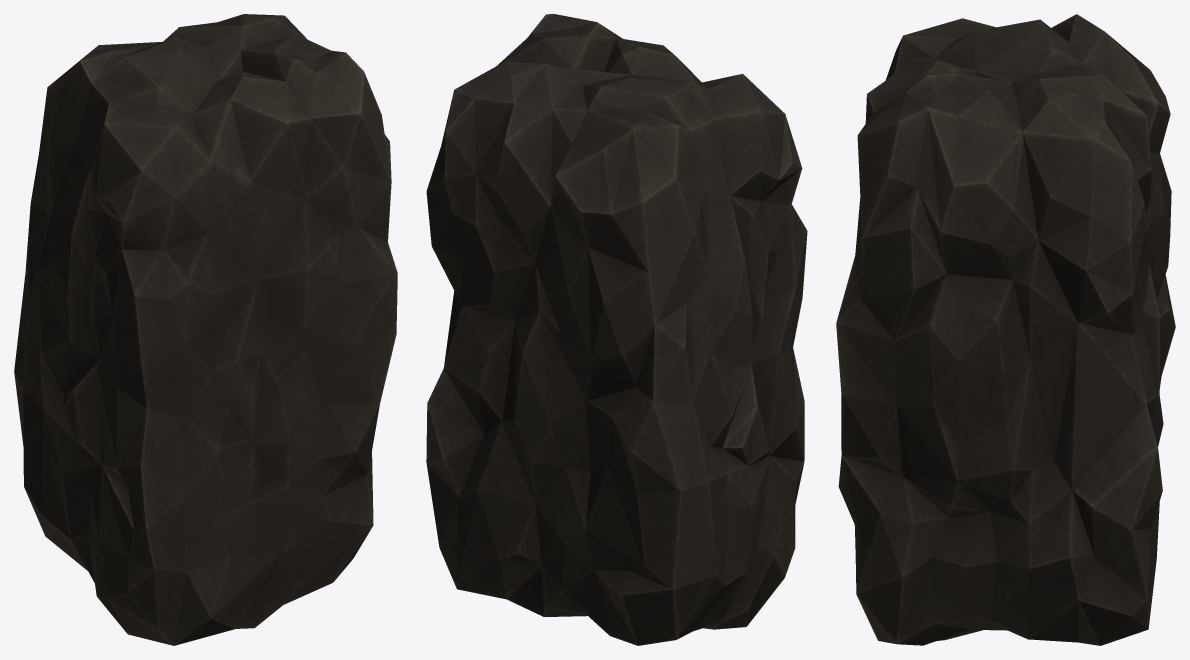
File: MKCave_SRockWallFlatSide.FBX
3 views of the same model, side by side, from view 1: azimuth 30°, elevation 25°; view 2: azimuth 150°, elevation 25°; view 3: azimuth 270°, elevation 25° (orthographic). The views are drawn at different scales.
Parts seen in each view (by area): view 1: MKCave_SRockWallFlatSide_LOD0; view 2: MKCave_SRockWallFlatSide_LOD0; view 3: MKCave_SRockWallFlatSide_LOD0.
Boxes of the visible parts, bbox=[...] form: MKCave_SRockWallFlatSide_LOD0: bbox=[14, 14, 397, 645]; MKCave_SRockWallFlatSide_LOD0: bbox=[426, 14, 807, 645]; MKCave_SRockWallFlatSide_LOD0: bbox=[836, 14, 1175, 645].
Bounding box in the file's own units: 266 × 255 × 493.
1 material, 1 textured.
